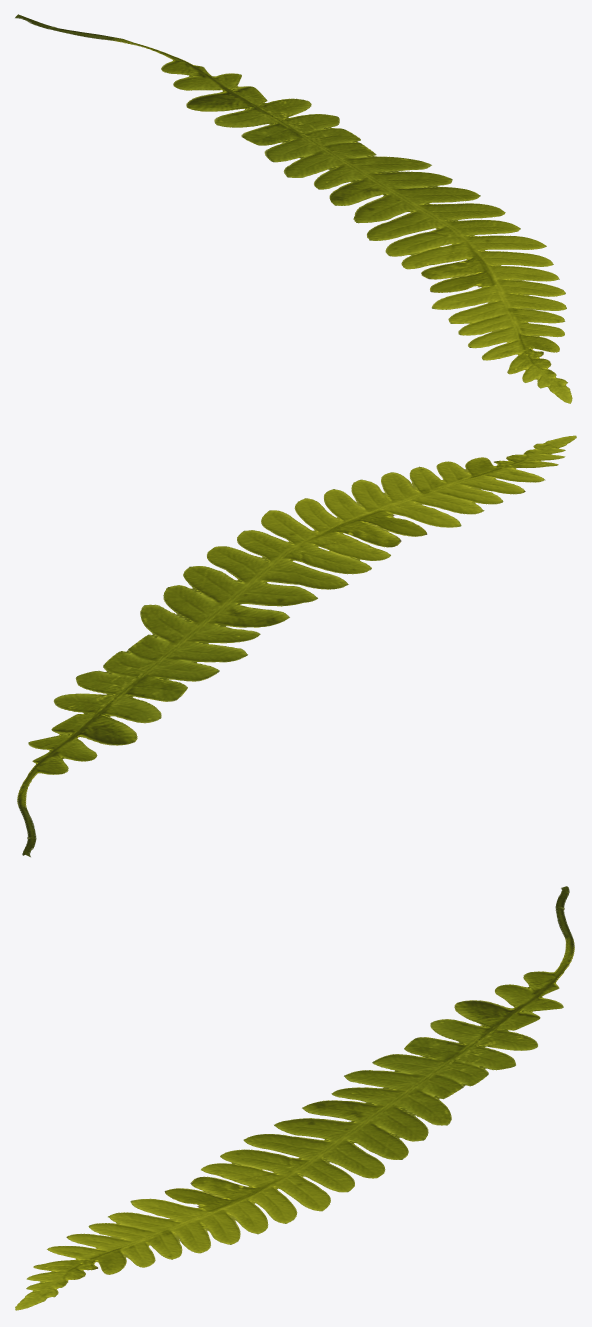
The model's file is PNW Plant_Sword Fern_Leaf_1k.glb.
3 views of the same model, one above another, from view 1: azimuth 30°, elevation 25°; view 2: azimuth 150°, elevation 25°; view 3: azimuth 330°, elevation 25° (orthographic). The views are drawn at different scales.
Parts seen in each view (by area): view 1: Plant_Sword Fern_Leaf_1k; view 2: Plant_Sword Fern_Leaf_1k; view 3: Plant_Sword Fern_Leaf_1k.
Boxes of the visible parts, x1=… form: Plant_Sword Fern_Leaf_1k: x1=15, y1=14, x2=572, y2=403; Plant_Sword Fern_Leaf_1k: x1=17, y1=435, x2=576, y2=857; Plant_Sword Fern_Leaf_1k: x1=15, y1=886, x2=574, y2=1310.
Bounding box in the file's own units: 0.2996 × 0.0251 × 1.58.
1 material, 1 textured.
